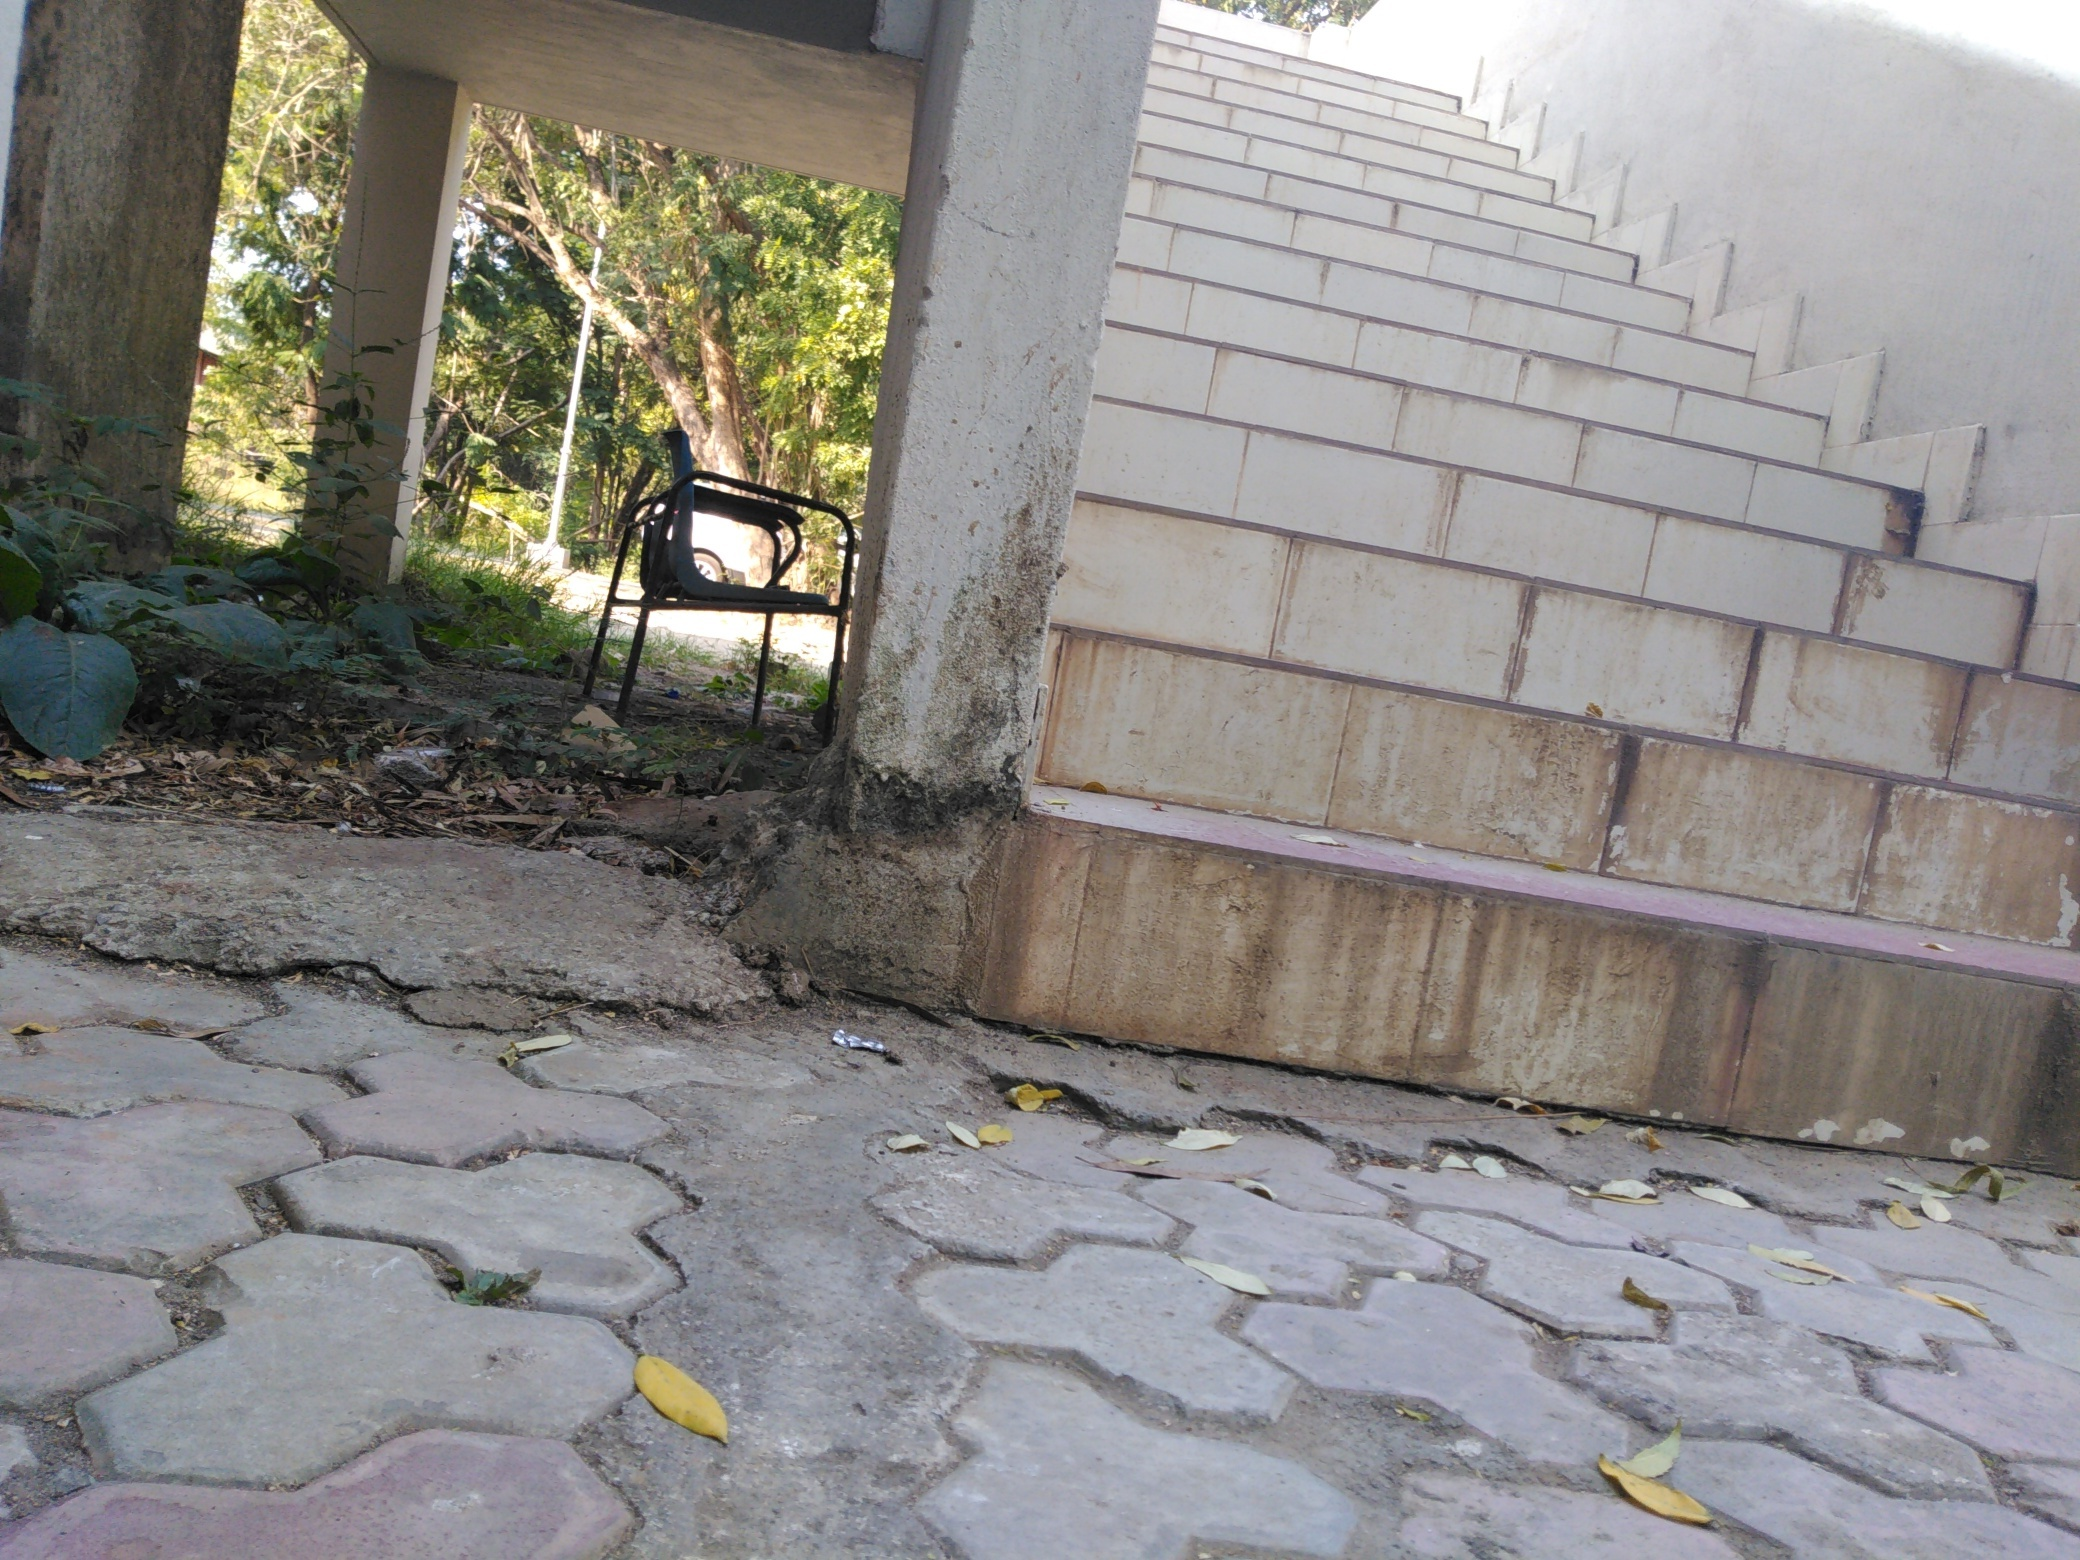stairs_up: (1006, 39, 2036, 1167)
